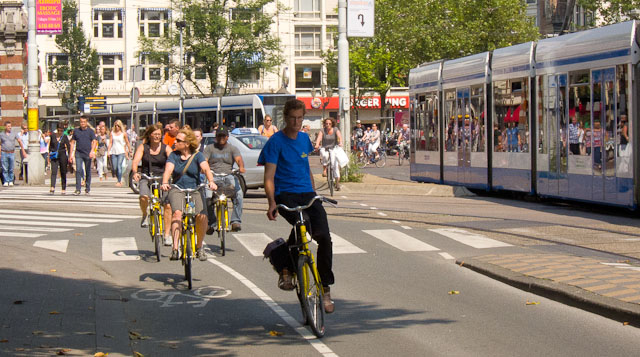commuter: (264, 99, 339, 342), (159, 130, 214, 287), (132, 125, 177, 261), (203, 126, 244, 255)
